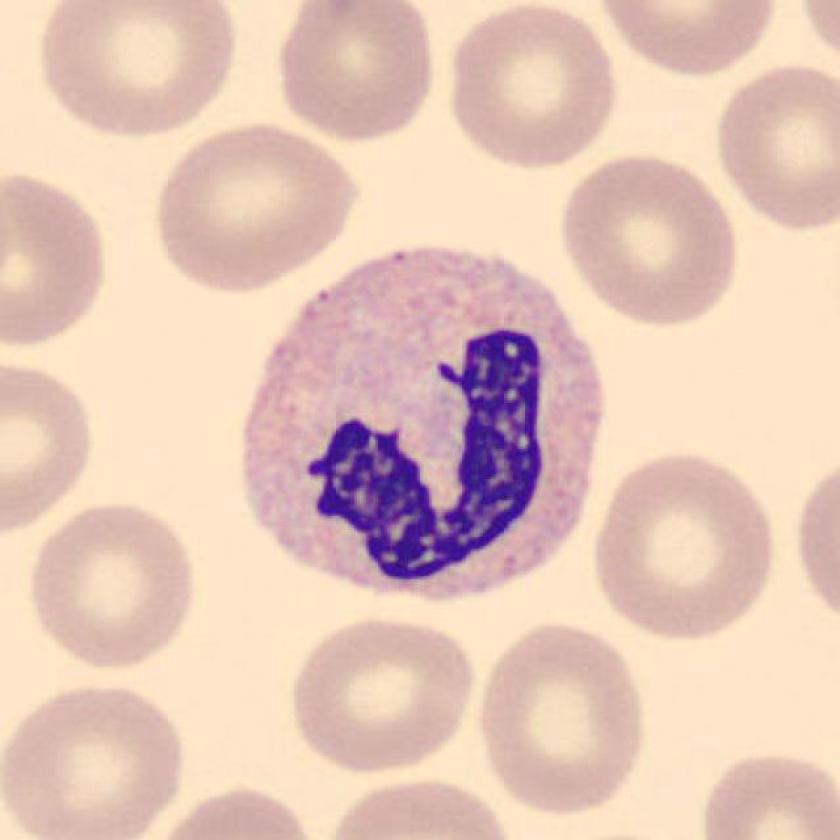neutrophil: (242, 251, 604, 600)
